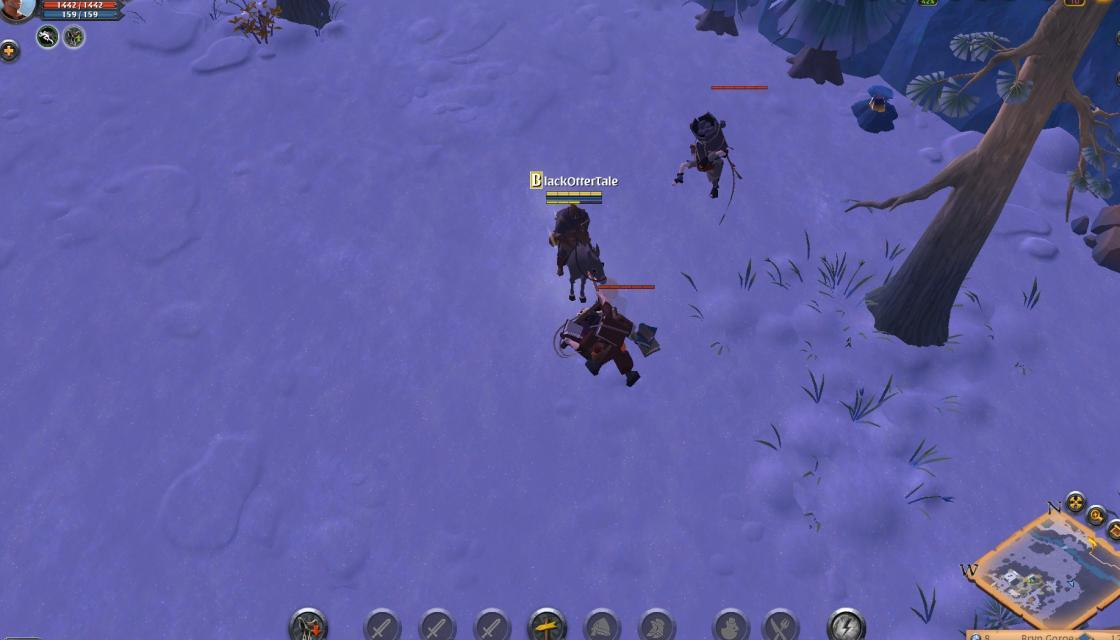copperore: (848, 89, 904, 135)
limestone: (1084, 195, 1120, 278)
